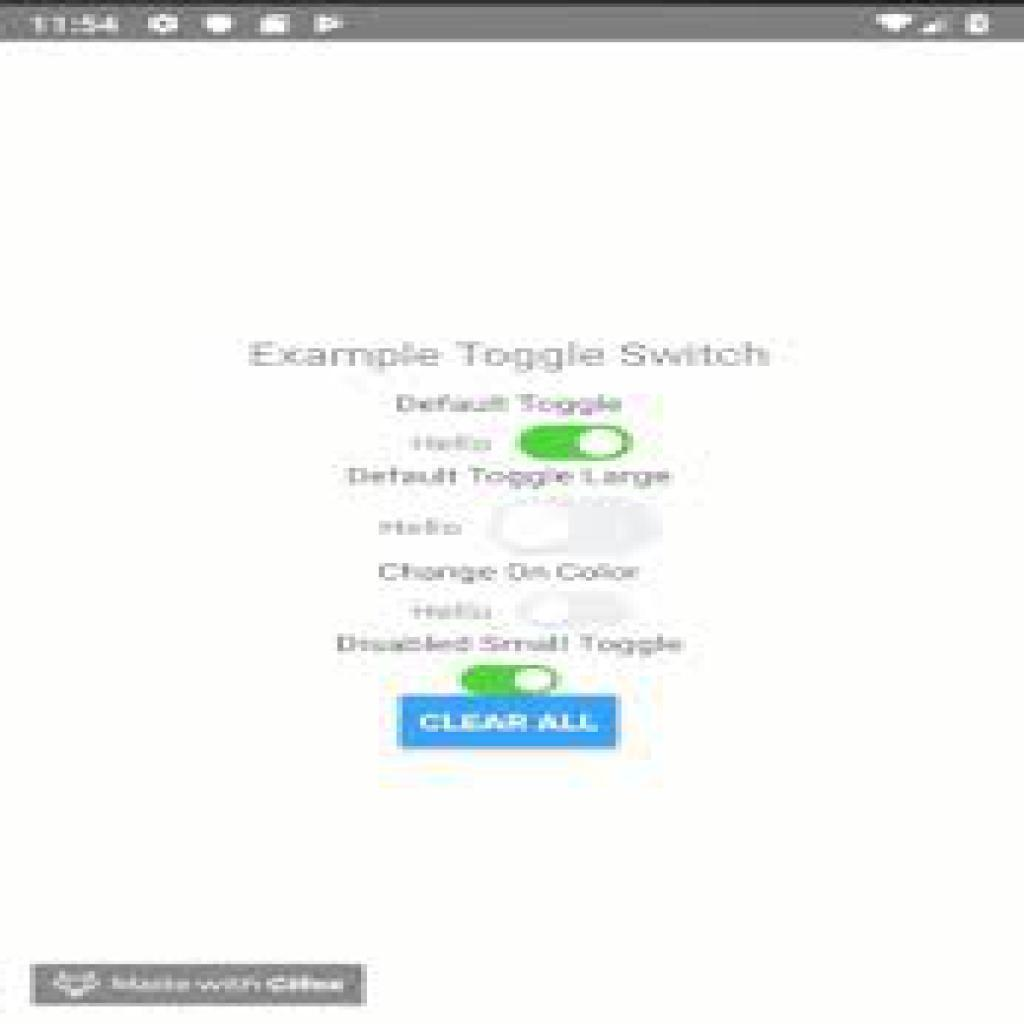button: (32, 964, 369, 1010), (401, 694, 618, 751)
switch: (493, 501, 662, 558), (515, 591, 639, 629), (517, 426, 637, 465), (461, 665, 560, 696)
